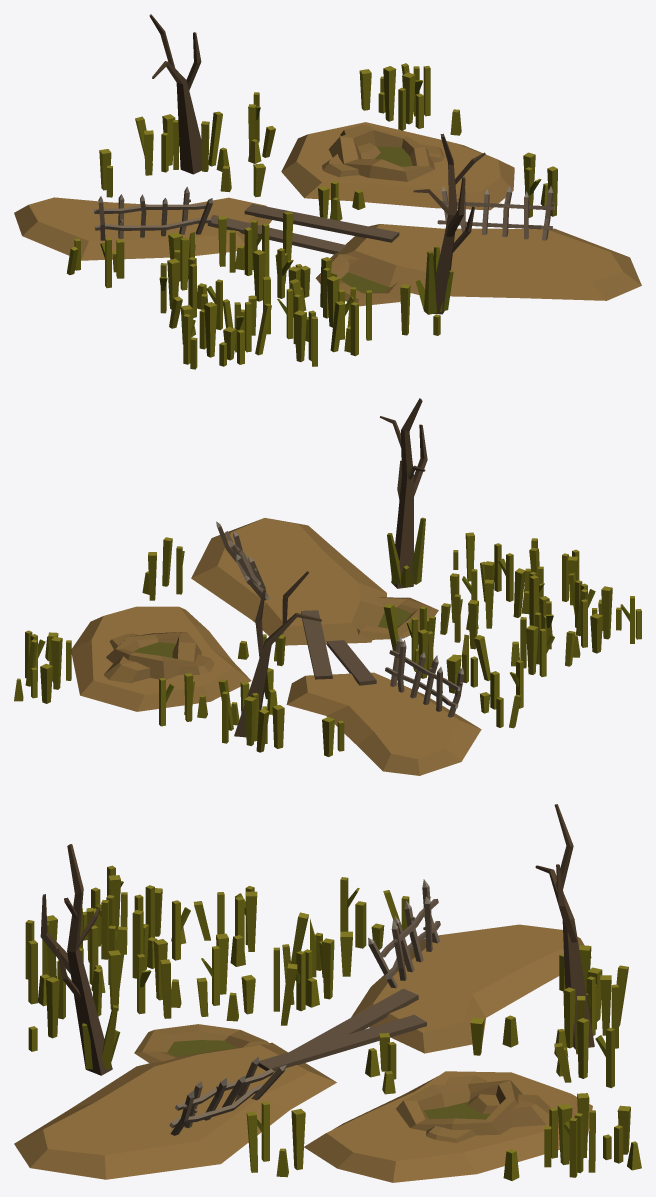
The model's file is SF_Env_Swamp_Preset_03.FBX.
3 views of the same model, one above another, from view 1: azimuth 30°, elevation 25°; view 2: azimuth 150°, elevation 25°; view 3: azimuth 270°, elevation 25° (orthographic). The views are drawn at different scales.
Parts seen in each view (by area): view 1: SF_Env_Swamp_Preset_03_Elements2, SF_Env_Swamp_Preset_03_Elements3, SF_Env_Swamp_Preset_03_Elements150, SF_Env_Swamp_Preset_03_Elements164, SF_Env_Swamp_Preset_03_Elements51, SF_Env_Swamp_Preset_03_Elements87, SF_Env_Swamp_Preset_03_Elements61, SF_Env_Swamp_Preset_03_Elements24; view 2: SF_Env_Swamp_Preset_03_Elements2, SF_Env_Swamp_Preset_03_Elements3, SF_Env_Swamp_Preset_03_Elements150, SF_Env_Swamp_Preset_03_Elements164; view 3: SF_Env_Swamp_Preset_03_Elements2, SF_Env_Swamp_Preset_03_Elements3, SF_Env_Swamp_Preset_03_Elements150, SF_Env_Swamp_Preset_03_Elements164, SF_Env_Swamp_Preset_03_Elements107, SF_Env_Swamp_Preset_03_Elements115, SF_Env_Swamp_Preset_03_Elements89, SF_Env_Swamp_Preset_03_Elements118, SF_Env_Swamp_Preset_03_Elements95, SF_Env_Swamp_Preset_03_Elements55, SF_Env_Swamp_Preset_03_Elements67, SF_Env_Swamp_Preset_03_Elements42 (+12 smaller).
Boxes of the visible parts, box(x1,y1,x2,y2) form: SF_Env_Swamp_Preset_03_Elements2: box(14, 185, 641, 306); SF_Env_Swamp_Preset_03_Elements3: box(281, 122, 514, 210); SF_Env_Swamp_Preset_03_Elements150: box(413, 133, 485, 314); SF_Env_Swamp_Preset_03_Elements164: box(149, 14, 209, 174); SF_Env_Swamp_Preset_03_Elements51: box(204, 302, 217, 357); SF_Env_Swamp_Preset_03_Elements87: box(383, 66, 396, 121); SF_Env_Swamp_Preset_03_Elements61: box(293, 310, 306, 361); SF_Env_Swamp_Preset_03_Elements24: box(252, 249, 265, 301); SF_Env_Swamp_Preset_03_Elements2: box(191, 518, 481, 775); SF_Env_Swamp_Preset_03_Elements3: box(71, 606, 251, 711); SF_Env_Swamp_Preset_03_Elements150: box(380, 398, 427, 588); SF_Env_Swamp_Preset_03_Elements164: box(234, 571, 321, 741); SF_Env_Swamp_Preset_03_Elements2: box(14, 879, 591, 1179); SF_Env_Swamp_Preset_03_Elements3: box(304, 1071, 592, 1182); SF_Env_Swamp_Preset_03_Elements150: box(40, 844, 120, 1075); SF_Env_Swamp_Preset_03_Elements164: box(535, 804, 595, 1049); SF_Env_Swamp_Preset_03_Elements107: box(291, 1108, 305, 1170); SF_Env_Swamp_Preset_03_Elements115: box(46, 977, 59, 1038); SF_Env_Swamp_Preset_03_Elements89: box(322, 938, 334, 999); SF_Env_Swamp_Preset_03_Elements118: box(577, 1018, 589, 1078); SF_Env_Swamp_Preset_03_Elements95: box(557, 1103, 572, 1165); SF_Env_Swamp_Preset_03_Elements55: box(132, 910, 143, 978); SF_Env_Swamp_Preset_03_Elements67: box(108, 950, 120, 1010); SF_Env_Swamp_Preset_03_Elements42: box(28, 940, 37, 1004).
Bounding box in the file's own units: 19.54 × 7.83 × 19.89.
